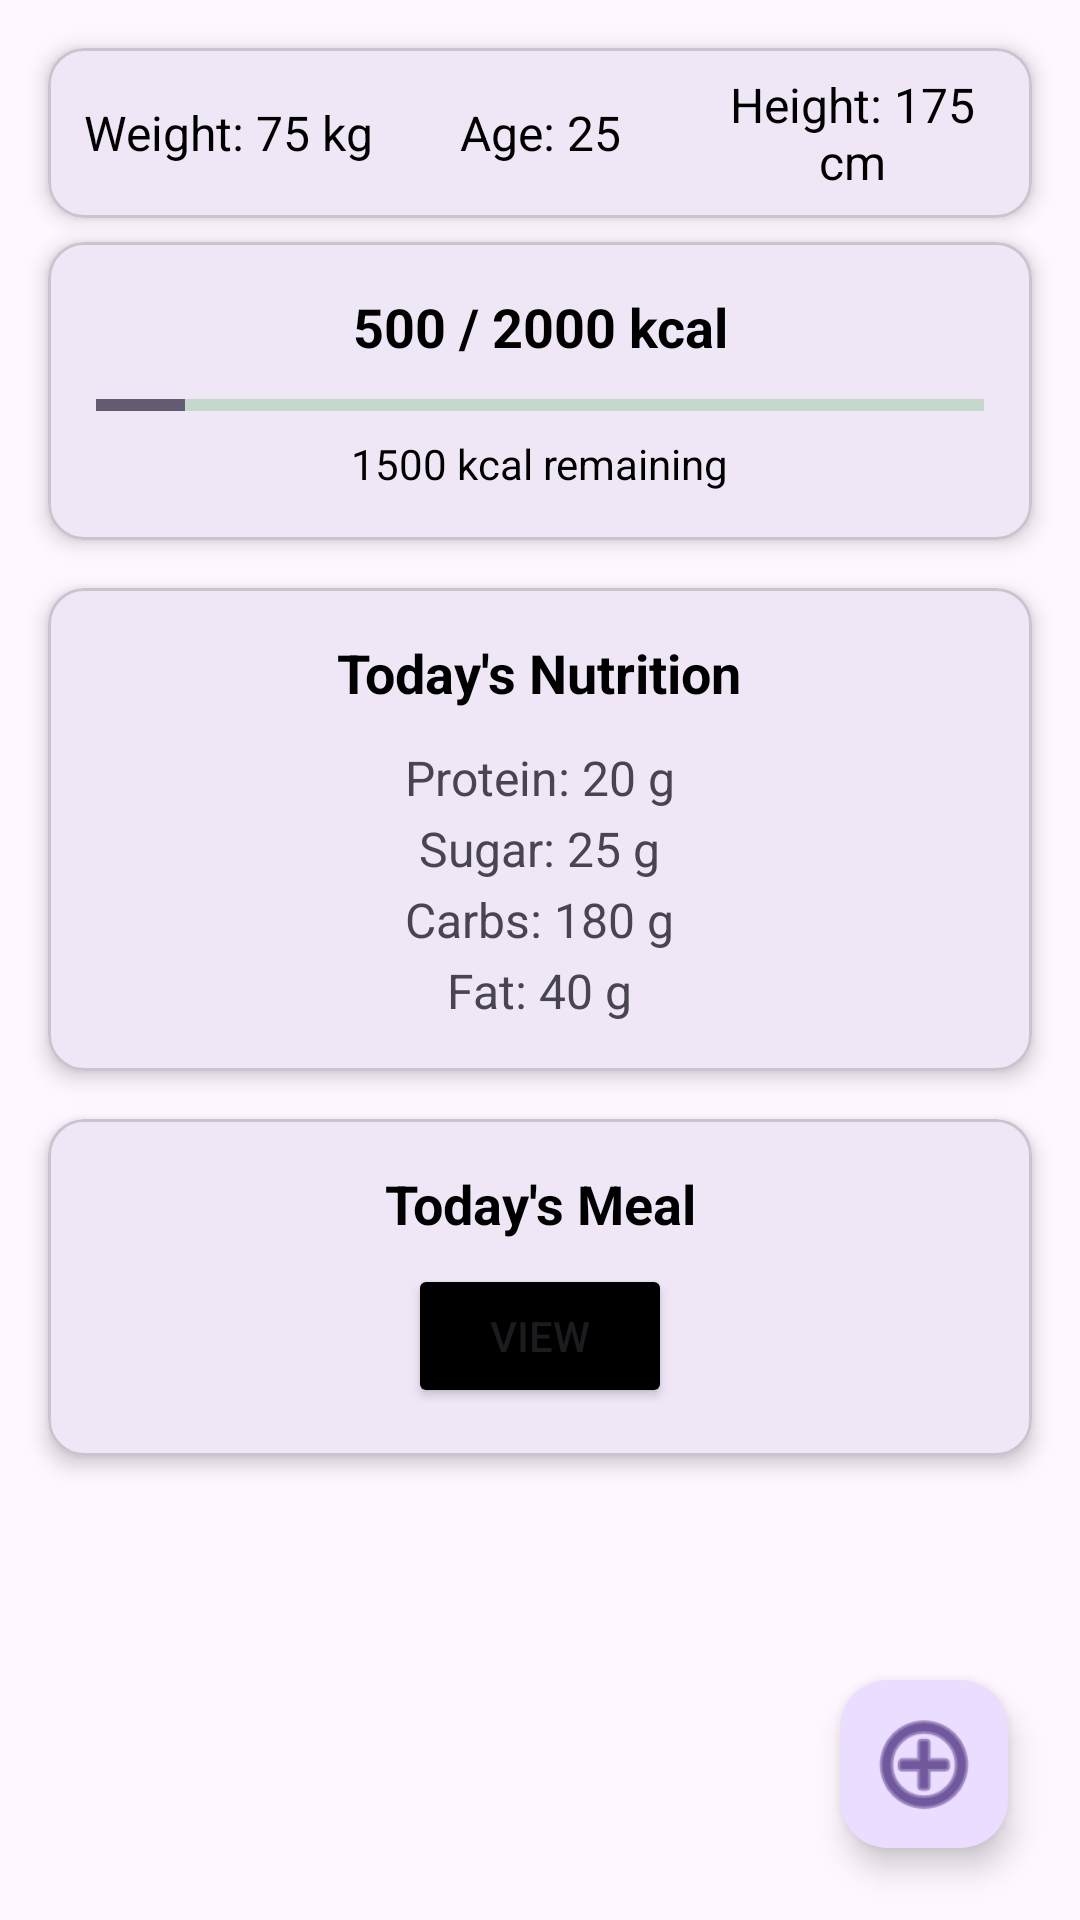

Point at icon controls on the screen. Image size 1080 x 1920, points as (x=x, y=y).
Add Meal: (x=924, y=1764)
